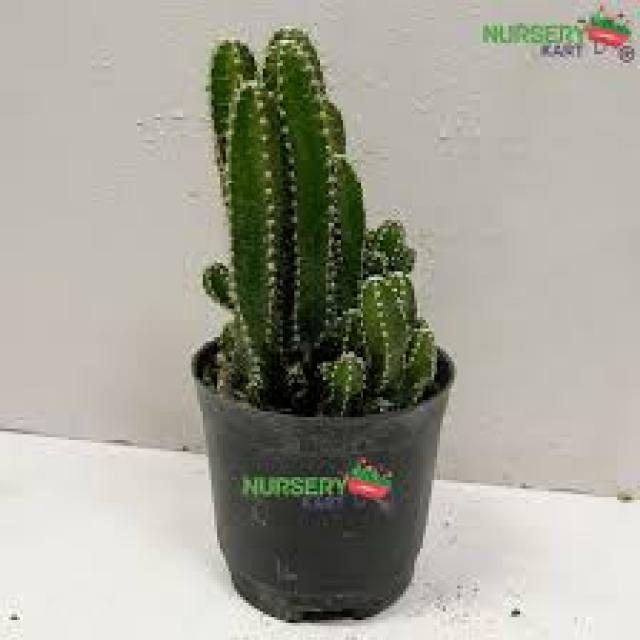cactus: (165, 14, 474, 384)
